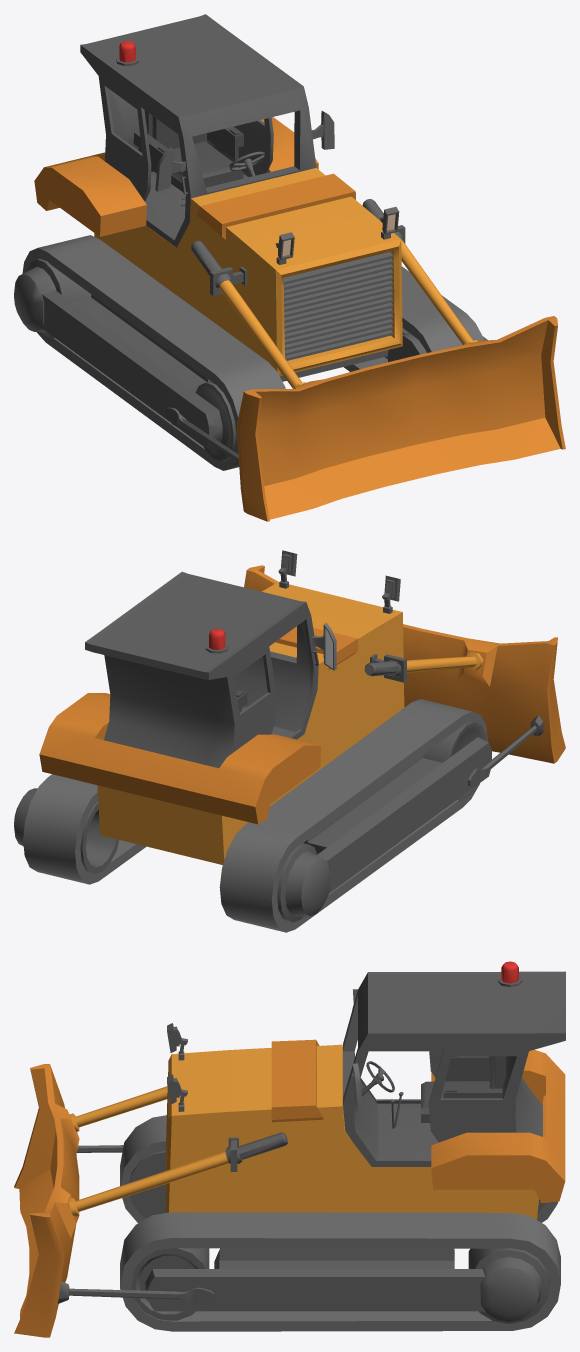
The model's file is Bulldozer.gltf.
The picture shows the model from 3 angles, top to bottom: view 1: azimuth 30°, elevation 25°; view 2: azimuth 150°, elevation 25°; view 3: azimuth 270°, elevation 25°; orthographic projection.
Parts seen in each view (by area): view 1: body, wheel_2, wheel_9; view 2: body, wheel_2, wheel_3, wheel_11, wheel_15, wheel_5, wheel_13; view 3: body, wheel_5, wheel_6, wheel_14, wheel_19, wheel_12, wheel_8.
Boxes of the visible parts, x1,y1,x2,y2 form: body: [22, 14, 565, 521]; wheel_2: [14, 267, 56, 332]; wheel_9: [37, 258, 91, 338]; body: [23, 550, 565, 932]; wheel_2: [285, 851, 330, 916]; wheel_3: [86, 809, 116, 867]; wheel_11: [280, 844, 316, 922]; wheel_15: [423, 721, 474, 800]; wheel_5: [14, 788, 37, 846]; wheel_13: [82, 804, 118, 874]; body: [14, 961, 565, 1337]; wheel_5: [480, 1257, 542, 1321]; wheel_6: [129, 1152, 165, 1218]; wheel_14: [475, 1250, 549, 1323]; wheel_19: [131, 1248, 205, 1320]; wheel_12: [468, 1248, 549, 1285]; wheel_8: [144, 1256, 194, 1271].
Size of the model in its own units: 5.11 by 4.43 by 7.8.
Materials: 1 (1 with a texture image).
